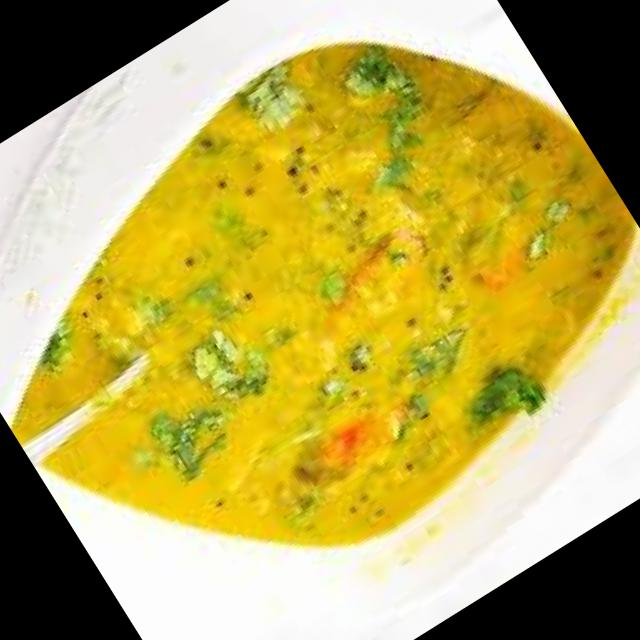dal: (18, 45, 639, 544)
